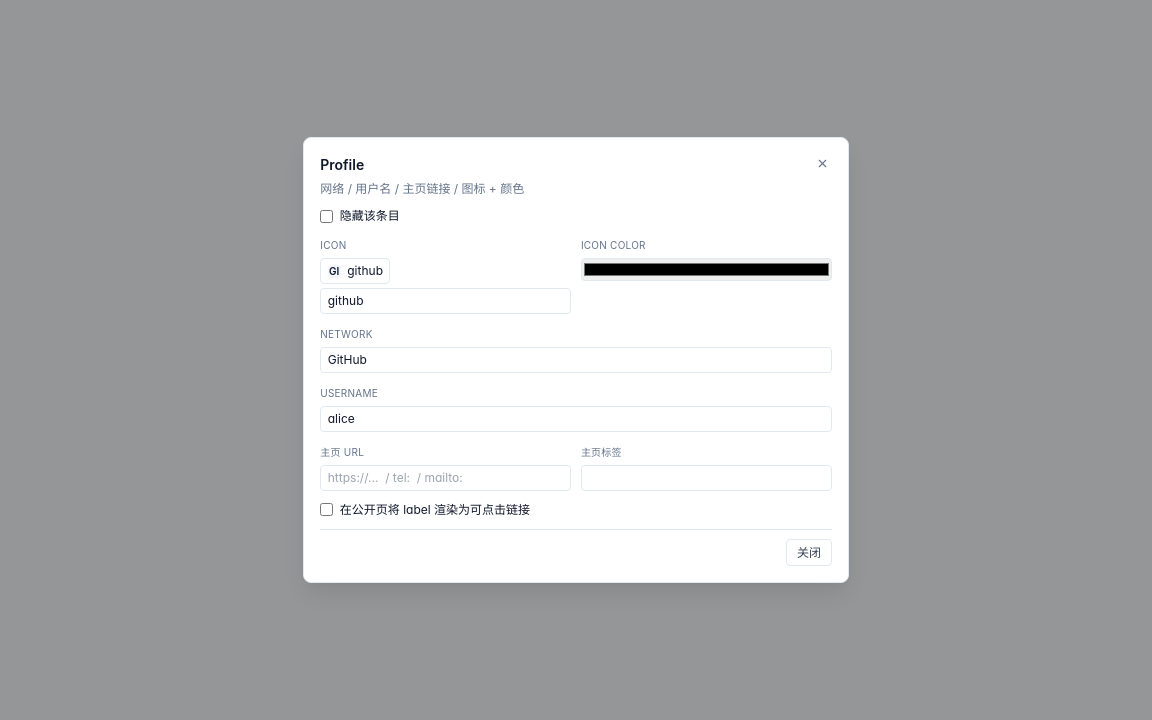
ProfileDialog (AC-03, AC-04, AC-05, AC-06, AC-07, AC-14) › URL whitelist accepts https/tel/mailto/IPv6/unicode, rejects javascript: (AC-08)
Type "https://[::1]:8080" into the field with test id "profile-website-url".
click(446, 478); type("https://[::1]:8080")  # box [320, 465, 571, 491]
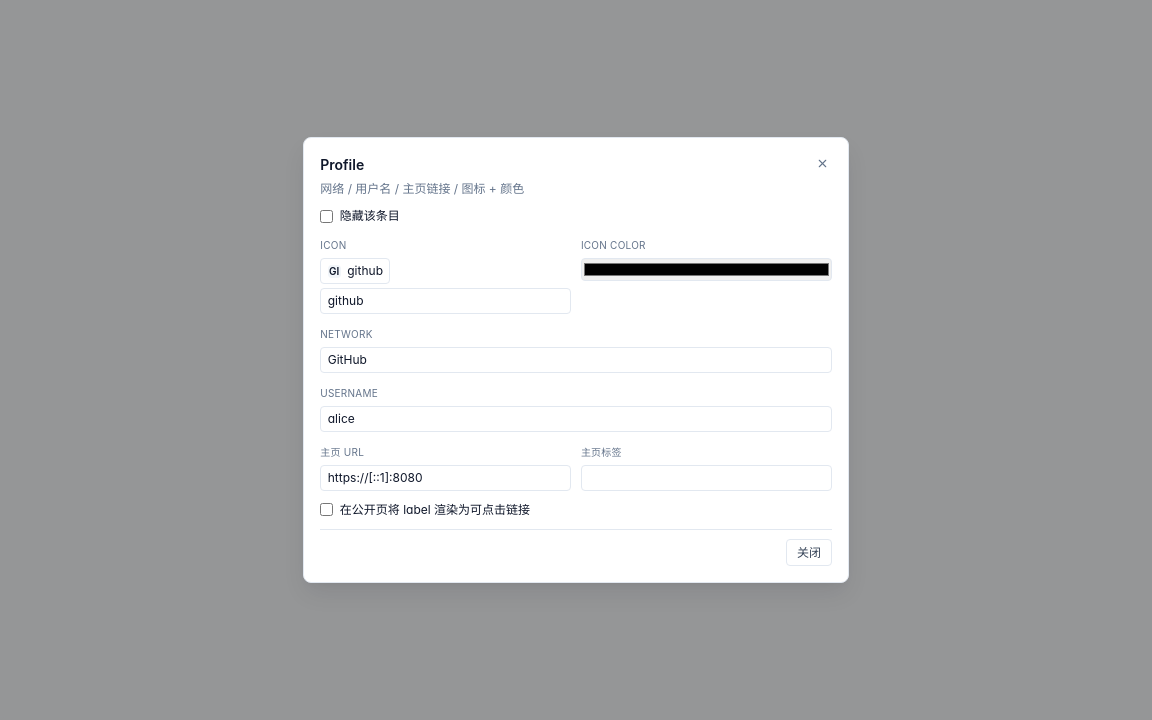
Replace the text in the field with test id "profile-website-url" with "tel:+86-010-1234" at (446, 478), box [320, 465, 571, 491]
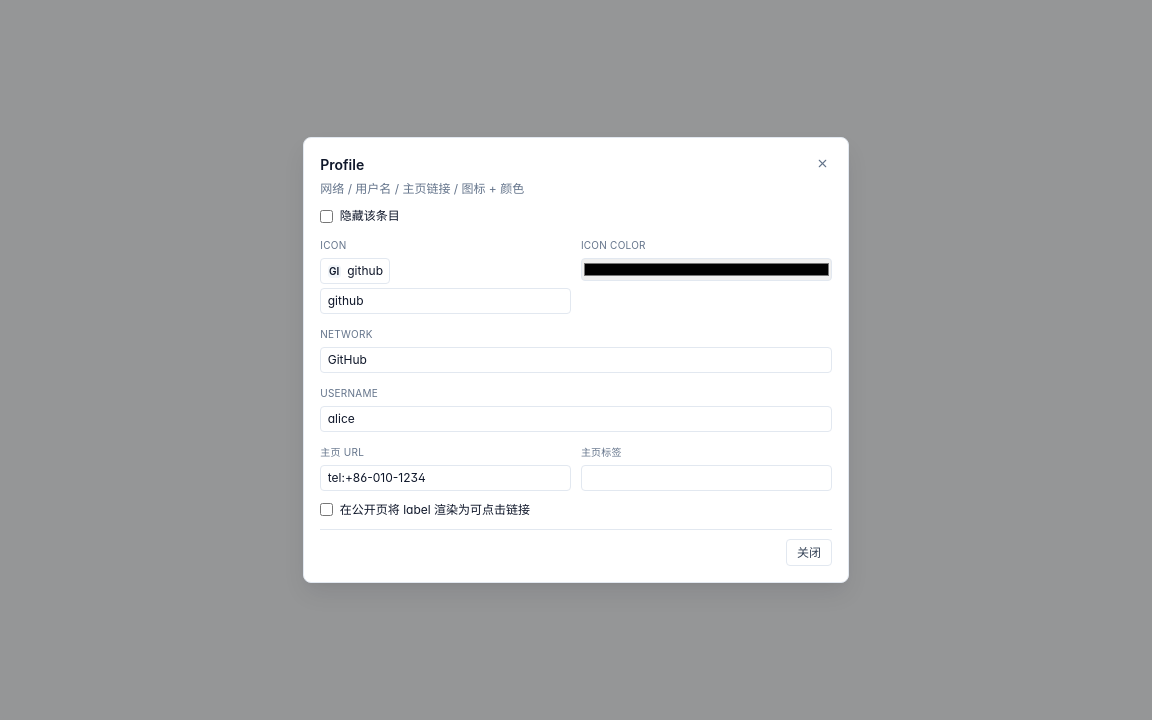
Replace the text in the field with test id "profile-website-url" with "mailto:a@b.com" at (446, 478), box [320, 465, 571, 491]
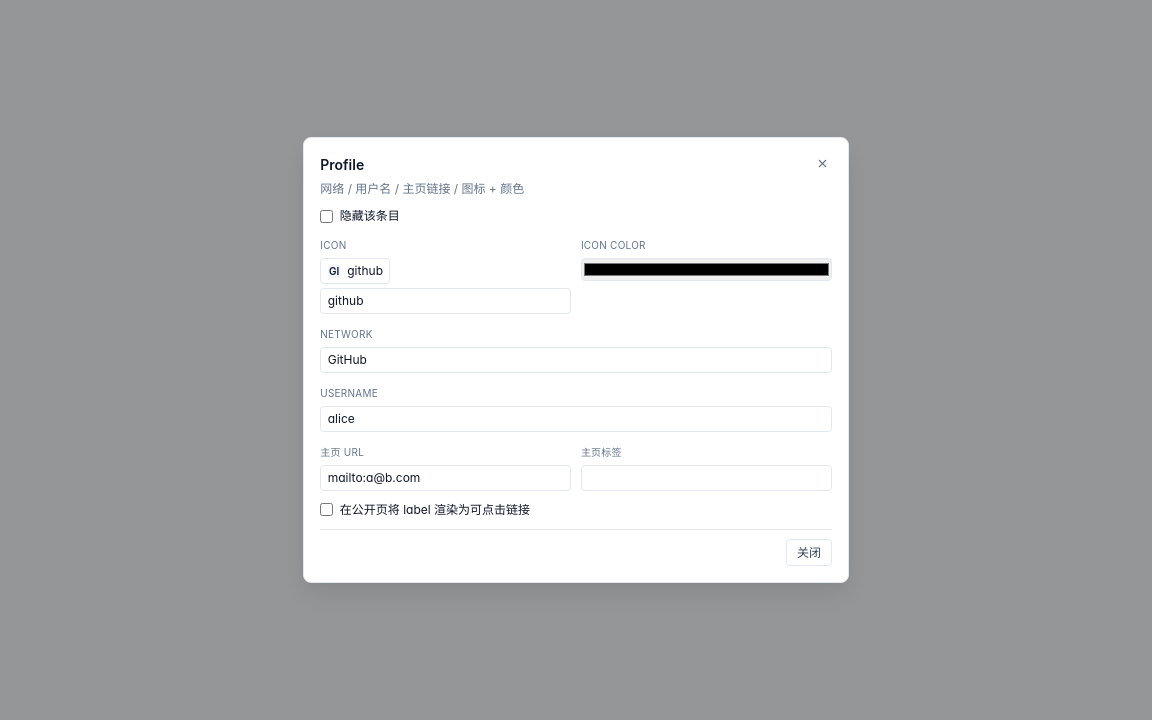
Replace the text in the field with test id "profile-website-url" with "https://中文.cn" at (446, 478), box [320, 465, 571, 491]
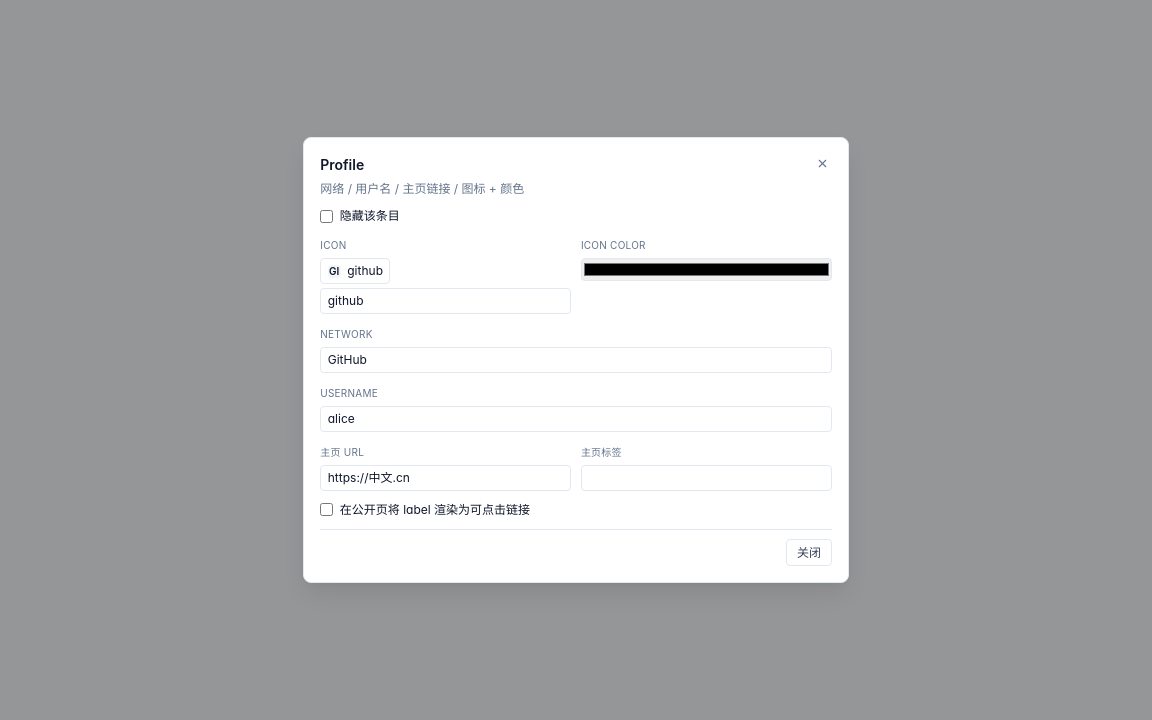
Replace the text in the field with test id "profile-website-url" with "javascript:alert(1)" at (446, 478), box [320, 465, 571, 491]
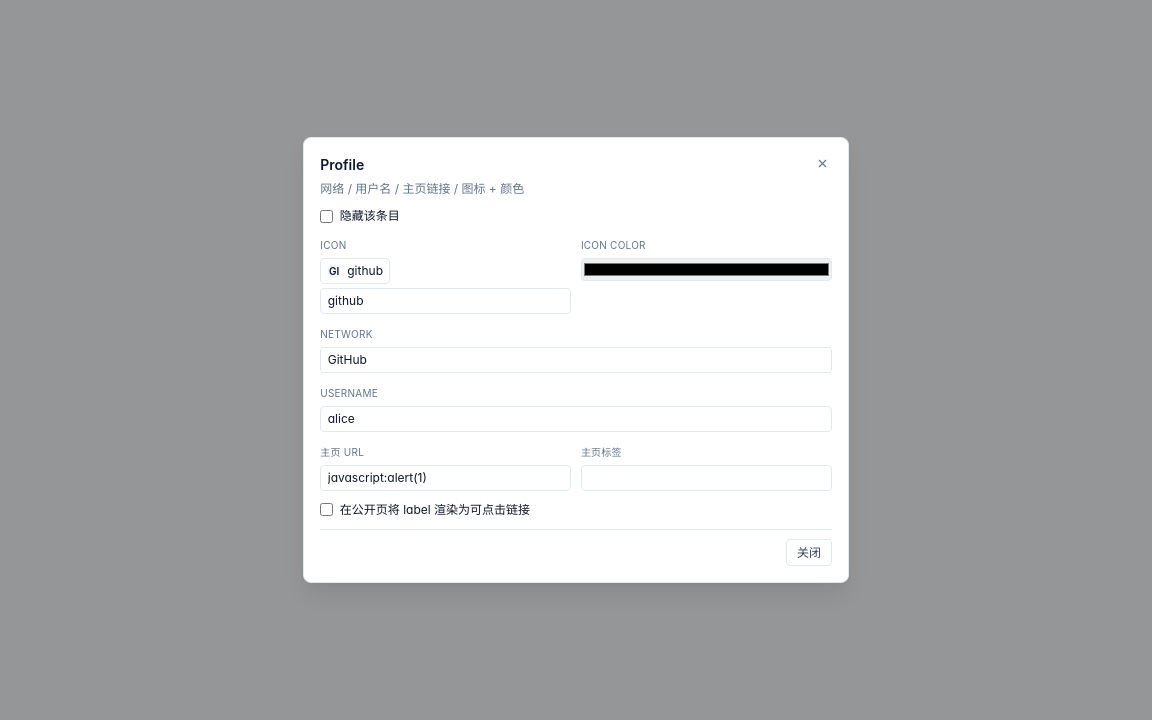
Leave the field with test id "profile-website-url", box [320, 465, 571, 491]
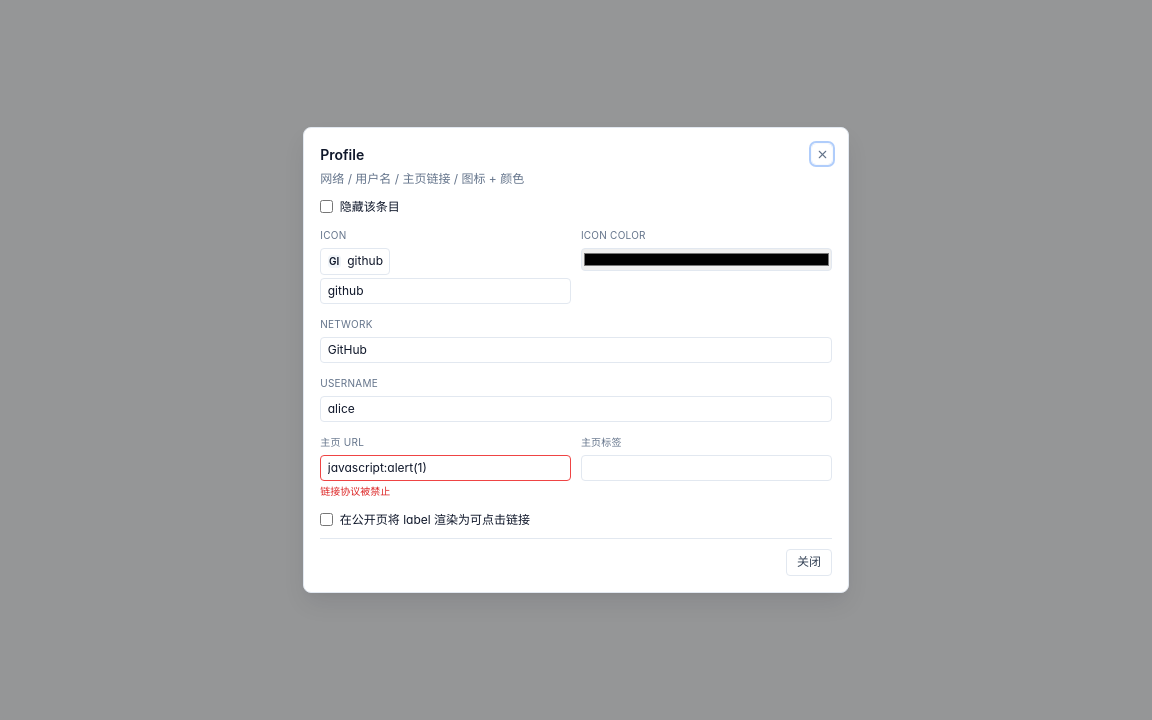
Expected: the message "链接协议被禁止" is shown, [320, 485, 390, 497]
